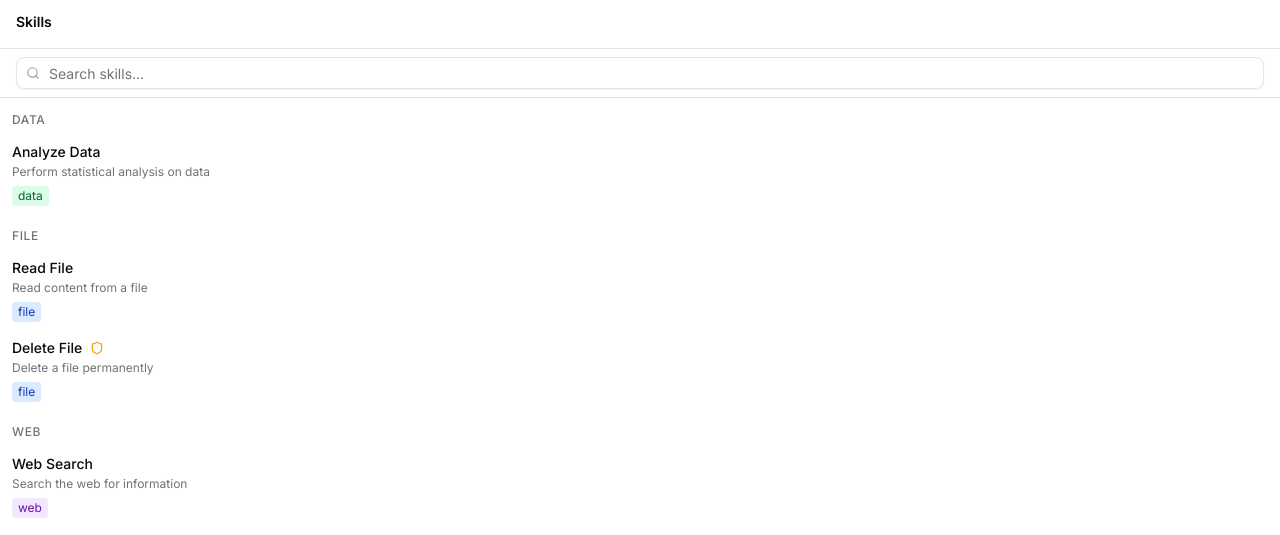
Test: SkillsPanel Component › Test 4: Filters skills by search query › should filter skills by description
Expected: the text "Read File" is shown, x1=12 y1=258 x2=73 y2=278
In the field with placeholder "Search skills...": (640, 73) x1=16 y1=57 x2=1264 y2=89, type "statistical"
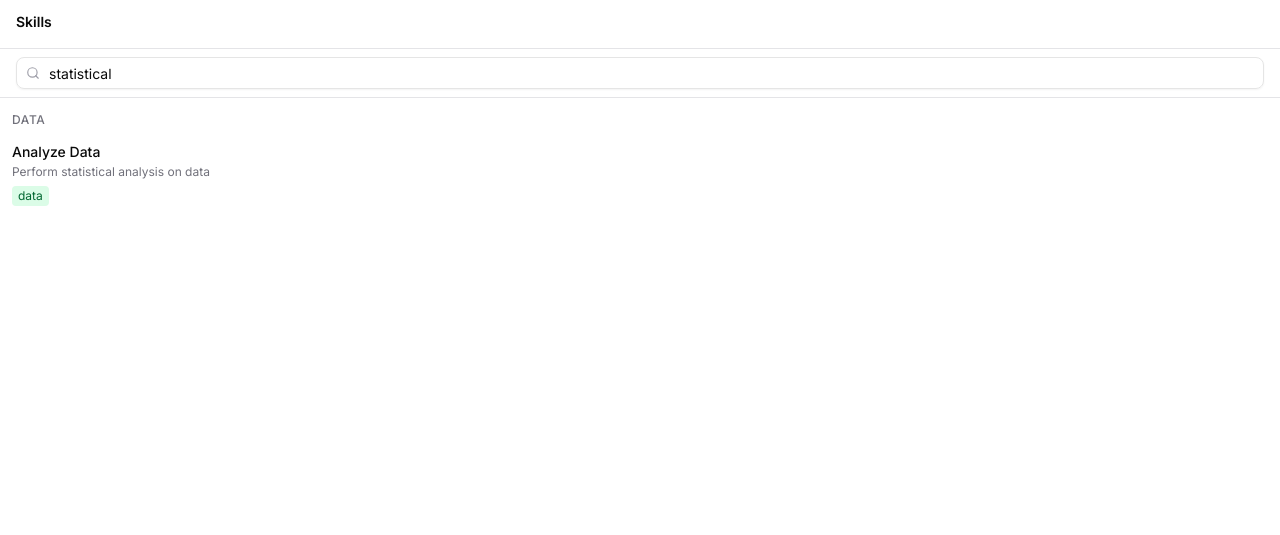
Expected: the text "Analyze Data" is shown, x1=12 y1=142 x2=100 y2=162
Expected: the text "Read File" is gone
